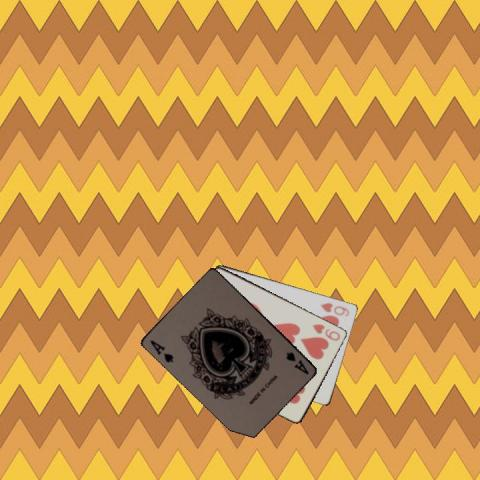6h: (318, 299, 351, 318)
9h: (310, 321, 342, 342)
As: (283, 349, 311, 376), (148, 337, 176, 364)
